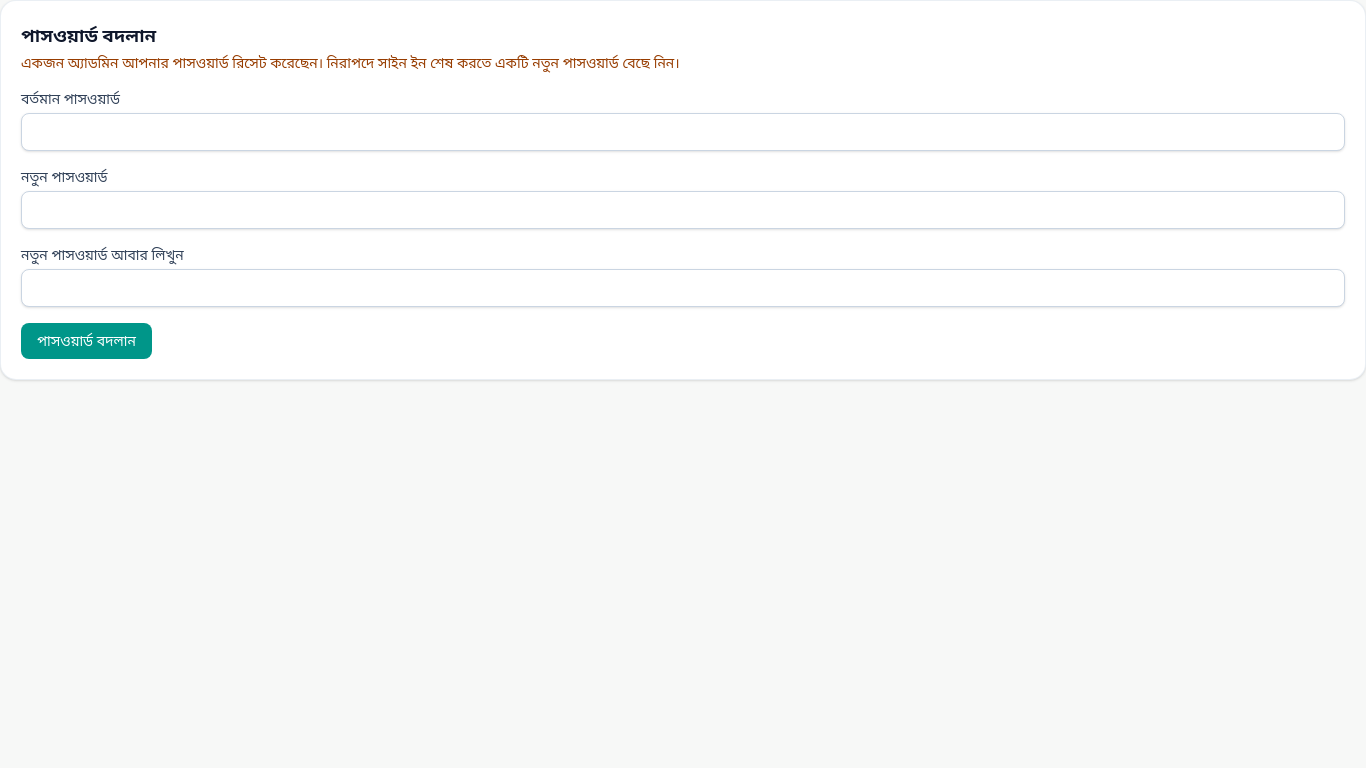
ChangePasswordForm in Bangla › explains an admin reset and confirms the change in Bangla
Check: the text "একজন অ্যাডমিন আপনার পাসওয়ার্ড রিসেট করেছেন। নিরাপদে সাইন ইন শেষ করতে একটি নতুন পাসওয়ার্ড বেছে নিন।" is shown, box [21,53,680,72]
Check: the heading "পাসওয়ার্ড বদলান" is shown, box [21,23,156,47]
Type "OldPassword1" into the password field labelled "বর্তমান পাসওয়ার্ড".
click(683, 132); type("OldPassword1")  # box [21,113,1345,151]
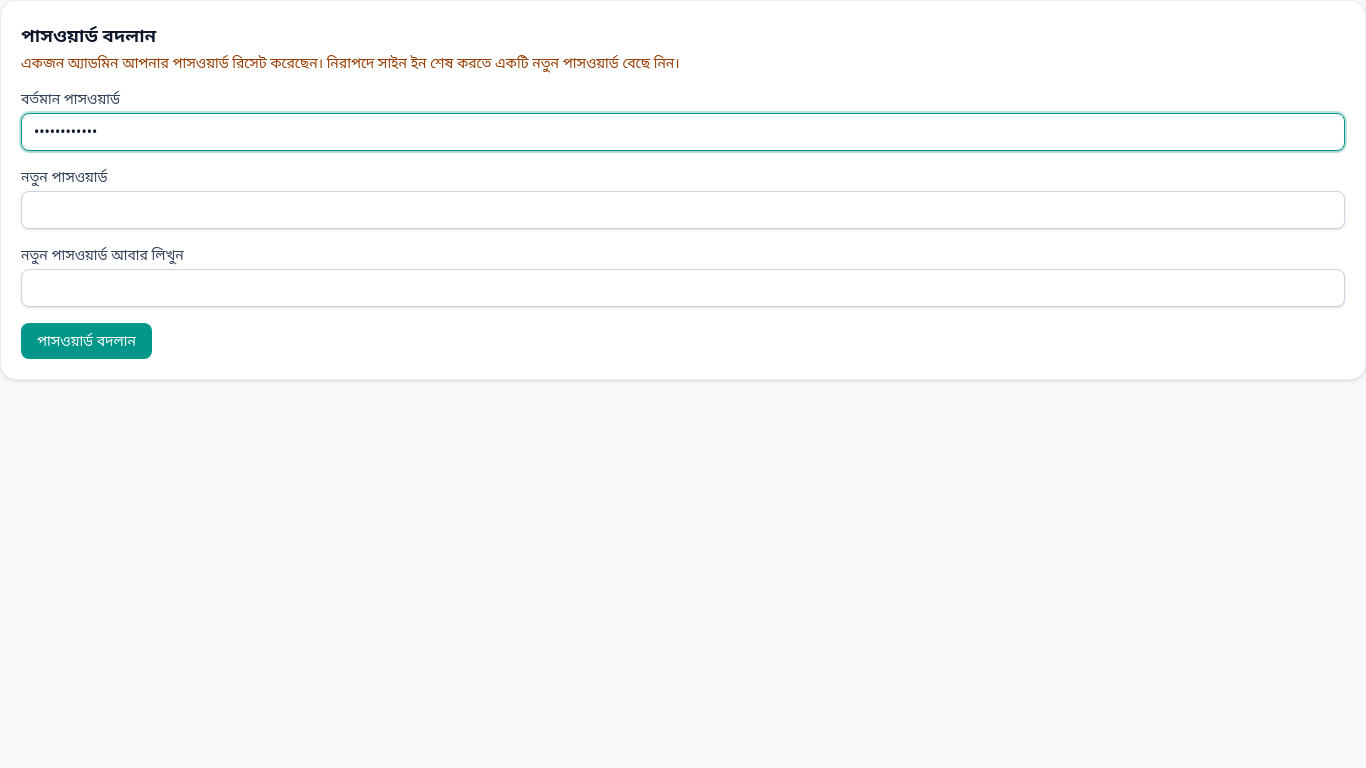
Type "NewPassword12" into the password field labelled "নতুন পাসওয়ার্ড".
click(683, 210); type("NewPassword12")  # box [21,191,1345,229]
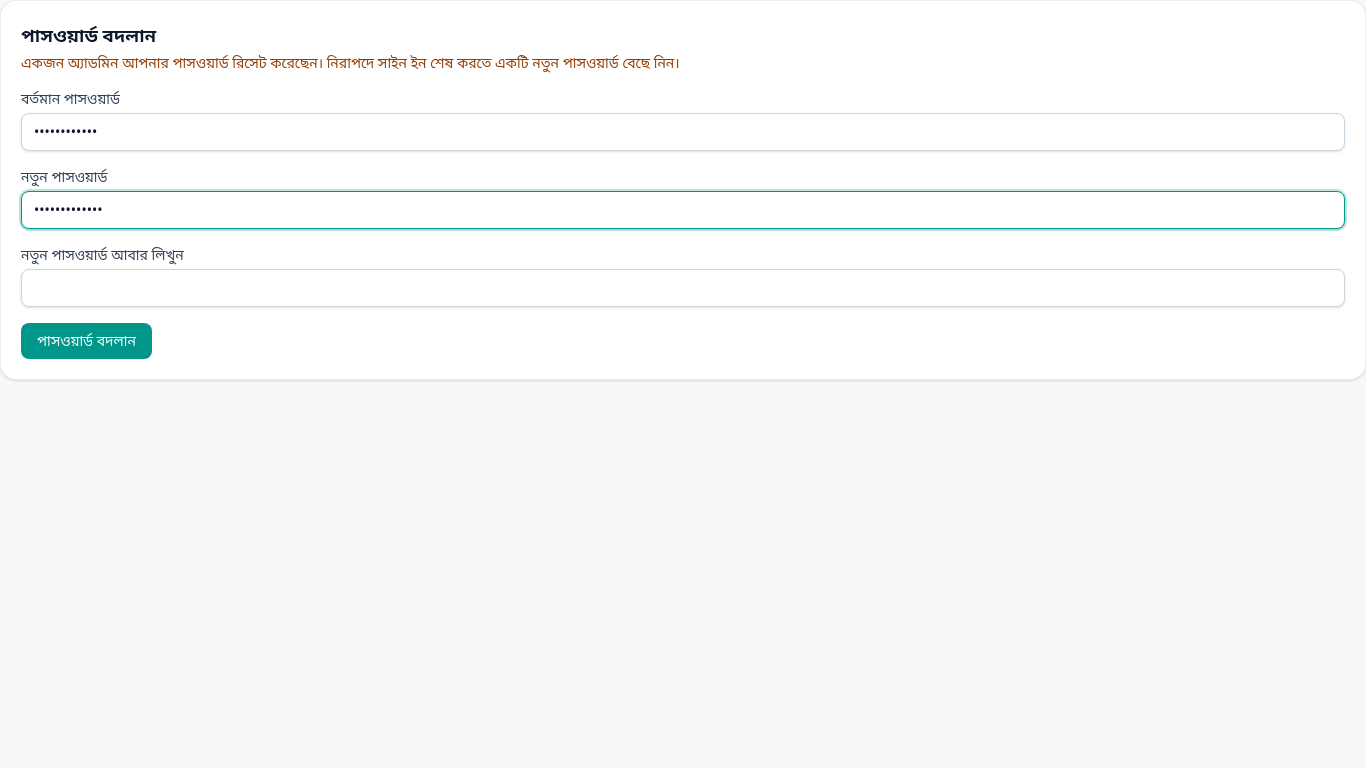
Type "NewPassword12" into the password field labelled "নতুন পাসওয়ার্ড আবার লিখুন".
click(683, 288); type("NewPassword12")  # box [21,269,1345,307]
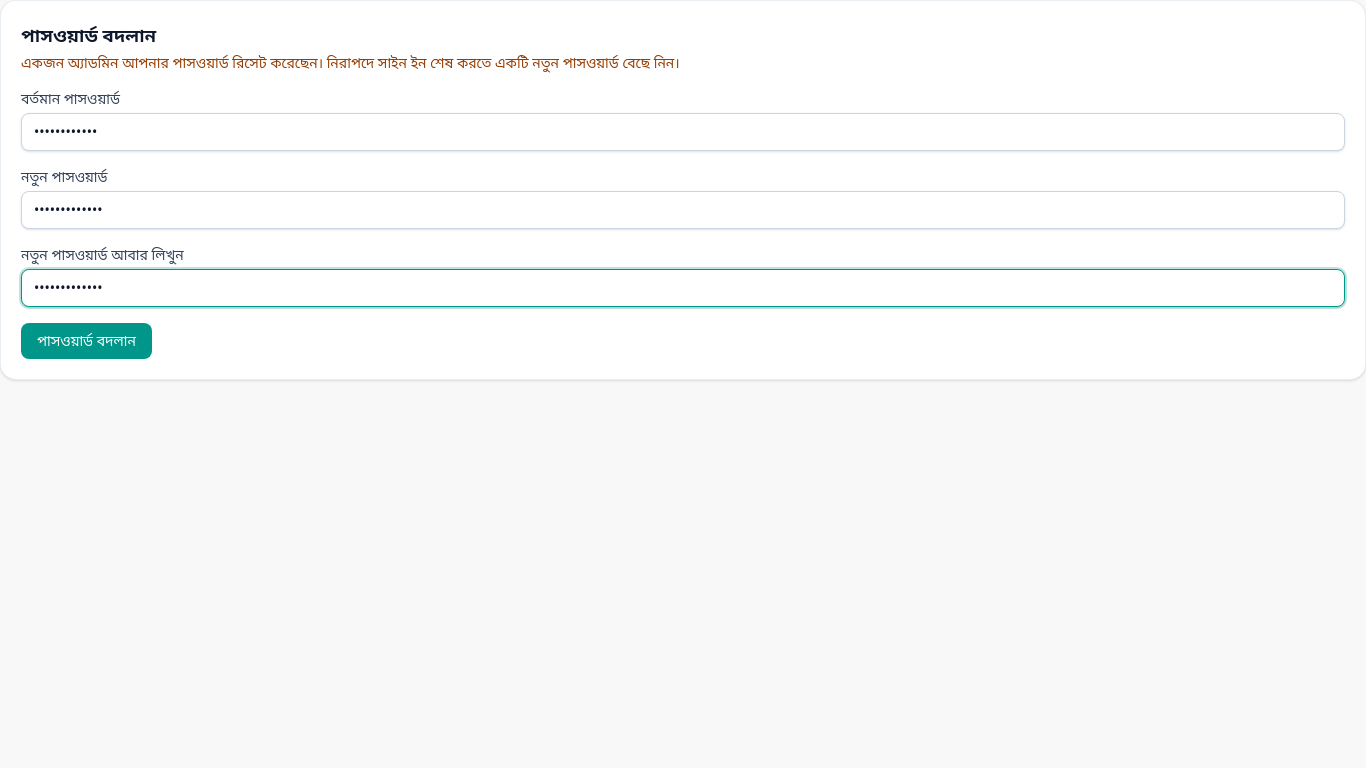
Click the button "পাসওয়ার্ড বদলান".
click(86, 341)  # box [21,323,152,359]
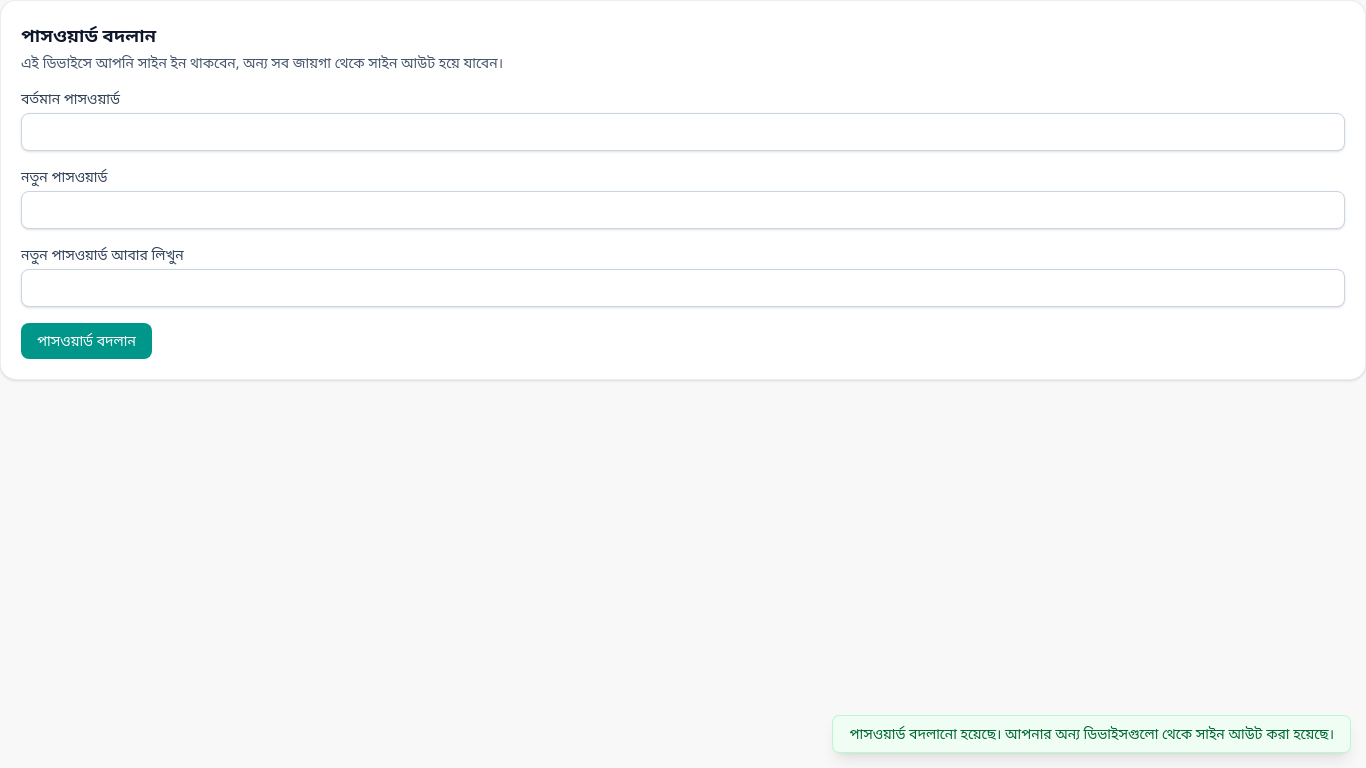
Check: the text "পাসওয়ার্ড বদলানো হয়েছে। আপনার অন্য ডিভাইসগুলো থেকে সাইন আউট করা হয়েছে।" is shown, box [833,716,1350,752]
